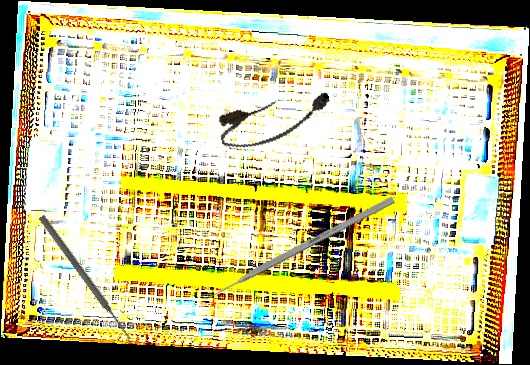Cannula: (214, 84, 337, 156)
Pusher: (196, 195, 396, 307), (37, 213, 134, 343)
